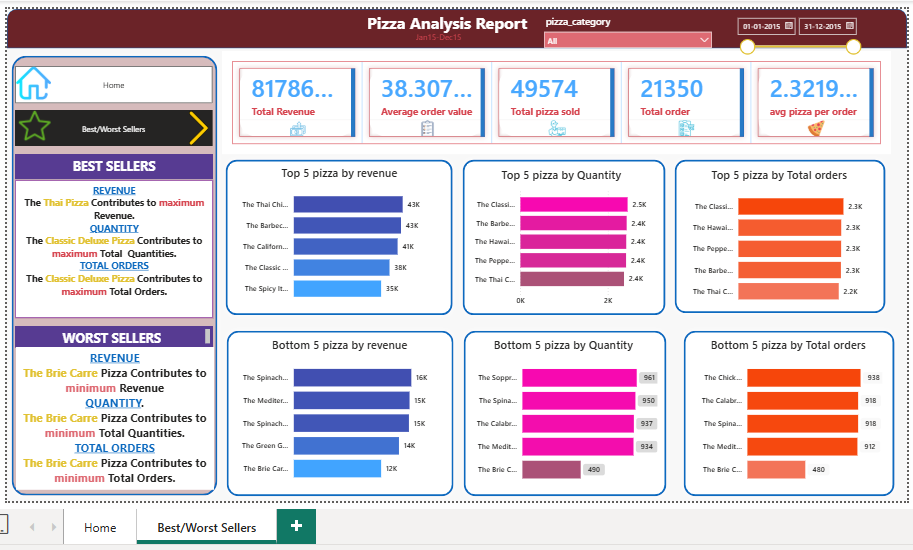

The page's visual inventory and layout, read from the dashboard file:
{"tool":"powerbi","page":{"name":"Best/Worst Sellers","canvas":[1500,820],"ordinal":1},"visuals":[{"type":"shape","box":[0,70.1,358.5,749],"z":0},{"type":"cardVisual","fields":{"Data":["pizza_sales.Total Revenue","pizza_sales.Average value","pizza_sales.Total pizza sold","pizza_sales.Total order","pizza_sales.avg pizza per order"]},"box":[357.5,70.5,1115.2,172.2],"z":1000},{"type":"shape","box":[0,0,1500,65.6],"z":2000},{"type":"textbox","box":[14,242.3,330.4,42.1],"z":3000},{"type":"textbox","box":[582,0,303.3,65.6],"z":4000},{"type":"textbox","box":[677,32.8,116.4,37.7],"z":5000},{"type":"shape","box":[357,243,393.9,274.9],"z":6000},{"type":"textbox","box":[14,284.4,330.4,230.3],"z":7000},{"type":"textbox","box":[14,528.7,330.4,36],"z":8000},{"type":"textbox","box":[14.8,563.9,329.5,237.7],"z":9000},{"type":"slicer","title":"Pizza_Category","fields":{"Values":["pizza_sales.pizza_category"]},"box":[884.9,5,300,60.3],"z":10000},{"type":"slicer","title":"Pizza_Category","fields":{"Values":["pizza_sales.order_date"]},"box":[1205,5,226.3,78.8],"z":11000},{"type":"shape","box":[750.8,243,353.6,274.9],"z":12000},{"type":"shape","box":[1104.5,243,367,271.5],"z":13000},{"type":"shape","box":[358.7,527.9,393.9,291.6],"z":14000},{"type":"shape","box":[752.5,527.9,353.6,291.6],"z":15000},{"type":"shape","box":[1119.6,527.9,367,291.6],"z":16000},{"type":"barChart","title":"Top 5 pizza by revenue","fields":{"Category":["pizza_sales.pizza_name"],"Y":["pizza_sales.Total Revenue"]},"box":[375.4,259.8,358.7,239.7],"z":17000},{"type":"barChart","title":"Bottom 5 pizza by revenue","fields":{"Category":["pizza_sales.pizza_name"],"Y":["pizza_sales.Total Revenue"]},"box":[375.5,546.9,359.2,255.1],"z":18000},{"type":"barChart","title":"Top 5 pizza by Quantity","fields":{"Category":["pizza_sales.pizza_name"],"Y":["pizza_sales.Total pizza sold"]},"box":[761.2,263.3,324.5,240.8],"z":19000},{"type":"barChart","title":"Bottom 5 pizza by Quantity","fields":{"Category":["pizza_sales.pizza_name"],"Y":["pizza_sales.Total pizza sold"]},"box":[765.3,546.9,324.5,257.1],"z":20000},{"type":"barChart","title":"Top 5 pizza by Total orders","fields":{"Category":["pizza_sales.pizza_name"],"Y":["pizza_sales.Total order"]},"box":[1124.5,263.3,324.5,240.8],"z":21000},{"type":"barChart","title":"Bottom 5 pizza by Total orders","fields":{"Category":["pizza_sales.pizza_name"],"Y":["pizza_sales.Total order"]},"box":[1140.8,546.9,324.5,257.1],"z":22000},{"type":"pageNavigator","box":[13.1,168.9,329.5,60.7],"z":22001},{"type":"pageNavigator","box":[13.1,95.1,329.5,62.3],"z":22002},{"type":"image","box":[13.1,95.1,62.3,57.4],"z":22003},{"type":"image","box":[280.3,170.5,78.7,57.4],"z":22004},{"type":"image","box":[16.4,168.9,59,52.5],"z":22005}]}

Visuals, with their boxes on the page's 1500x820 design canvas (x1, y1, x2, y2). These are canvas units, not pixel positions in the 913x550 screenshot, which may show the page scaled, cropped or inside an application window:
shape: pyautogui.locateOnScreen(0, 70, 358, 819)
cardVisual - pizza_sales.Total Revenue x pizza_sales.Average value: pyautogui.locateOnScreen(358, 70, 1473, 243)
shape: pyautogui.locateOnScreen(0, 0, 1500, 66)
textbox: pyautogui.locateOnScreen(14, 242, 344, 284)
textbox: pyautogui.locateOnScreen(582, 0, 885, 66)
textbox: pyautogui.locateOnScreen(677, 33, 793, 70)
shape: pyautogui.locateOnScreen(357, 243, 751, 518)
textbox: pyautogui.locateOnScreen(14, 284, 344, 515)
textbox: pyautogui.locateOnScreen(14, 529, 344, 565)
textbox: pyautogui.locateOnScreen(15, 564, 344, 802)
"Pizza_Category" slicer: pyautogui.locateOnScreen(885, 5, 1185, 65)
"Pizza_Category" slicer: pyautogui.locateOnScreen(1205, 5, 1431, 84)
shape: pyautogui.locateOnScreen(751, 243, 1104, 518)
shape: pyautogui.locateOnScreen(1104, 243, 1472, 514)
shape: pyautogui.locateOnScreen(359, 528, 753, 820)
shape: pyautogui.locateOnScreen(752, 528, 1106, 820)
shape: pyautogui.locateOnScreen(1120, 528, 1487, 820)
"Top 5 pizza by revenue" barChart: pyautogui.locateOnScreen(375, 260, 734, 500)
"Bottom 5 pizza by revenue" barChart: pyautogui.locateOnScreen(376, 547, 735, 802)
"Top 5 pizza by Quantity" barChart: pyautogui.locateOnScreen(761, 263, 1086, 504)
"Bottom 5 pizza by Quantity" barChart: pyautogui.locateOnScreen(765, 547, 1090, 804)
"Top 5 pizza by Total orders" barChart: pyautogui.locateOnScreen(1124, 263, 1449, 504)
"Bottom 5 pizza by Total orders" barChart: pyautogui.locateOnScreen(1141, 547, 1465, 804)
pageNavigator: pyautogui.locateOnScreen(13, 169, 343, 230)
pageNavigator: pyautogui.locateOnScreen(13, 95, 343, 157)
image: pyautogui.locateOnScreen(13, 95, 75, 152)
image: pyautogui.locateOnScreen(280, 170, 359, 228)
image: pyautogui.locateOnScreen(16, 169, 75, 221)
